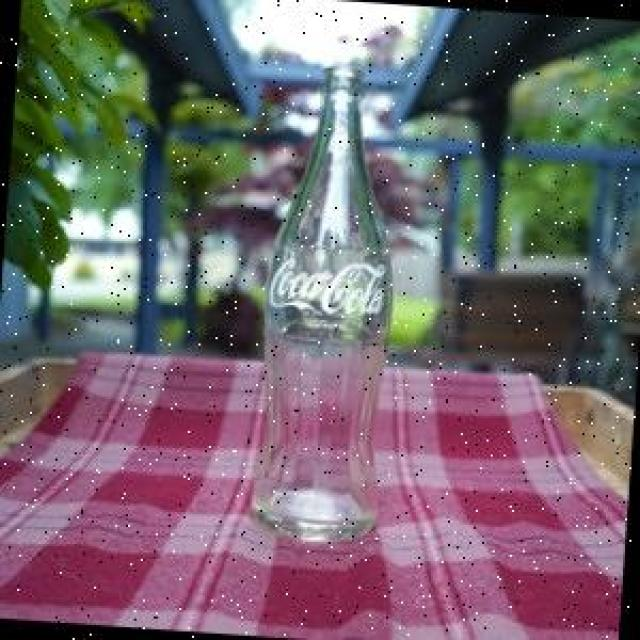coca-cola: (245, 56, 420, 550)
